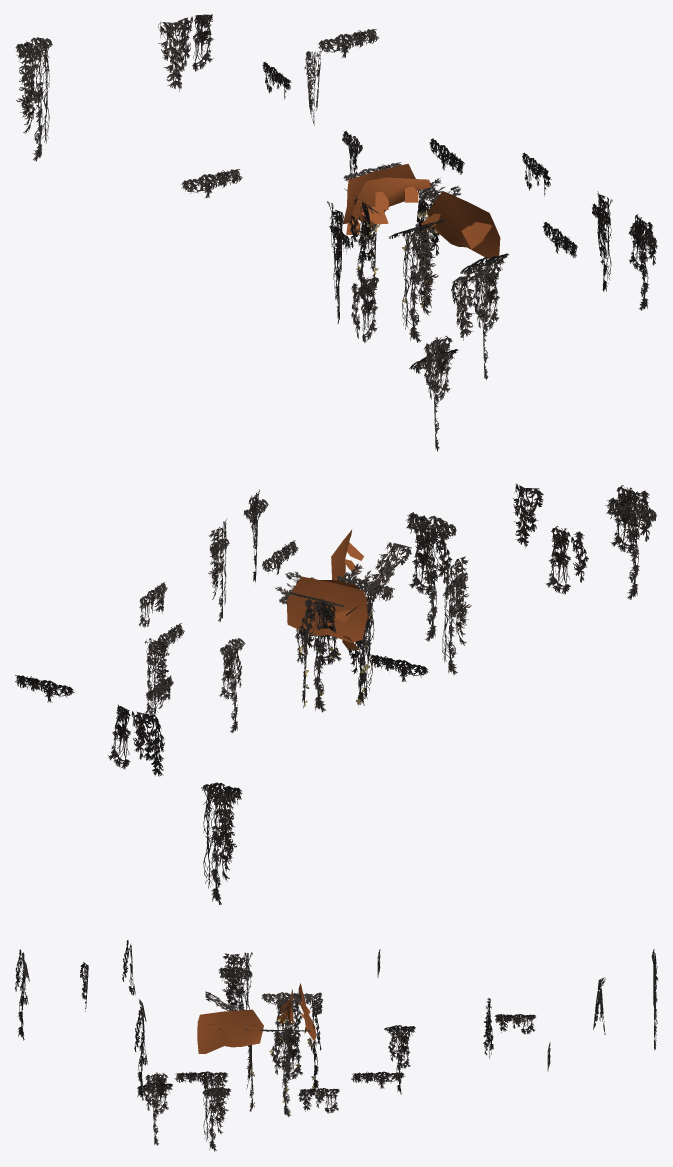
The model's file is DinerInnerFolBeardMoss.FBX.
3 renders of one model, top to bottom at view 1: azimuth 30°, elevation 25°; view 2: azimuth 150°, elevation 25°; view 3: azimuth 270°, elevation 25°, orthographic. The views are drawn at different scales.
Visible parts, largest first — view 1: Diner_Fol_Beard_Moss; view 2: Diner_Fol_Beard_Moss; view 3: Diner_Fol_Beard_Moss.
Part boxes in pixels (x1,y1,x2,y2): Diner_Fol_Beard_Moss: [15, 14, 657, 451]; Diner_Fol_Beard_Moss: [15, 483, 656, 904]; Diner_Fol_Beard_Moss: [15, 940, 658, 1151].
Bounding box in the file's own units: 630 × 310 × 1387.
